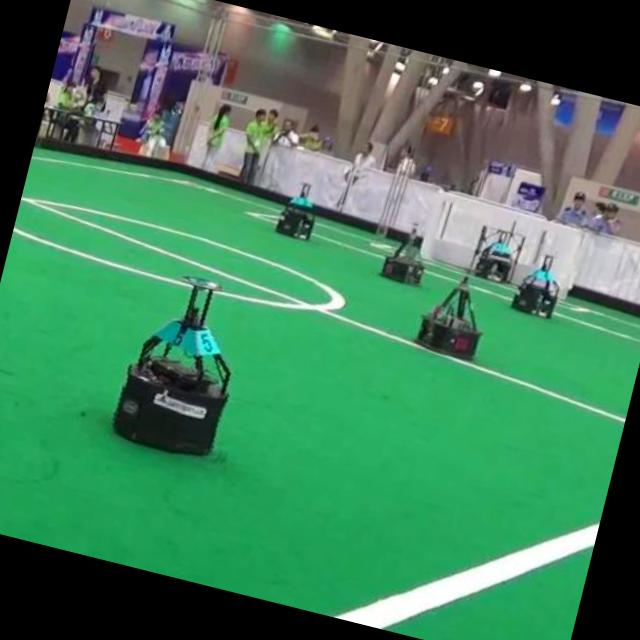goal: (558, 229, 583, 300), (421, 191, 447, 259)
robot: (113, 281, 229, 453), (416, 275, 479, 358), (472, 226, 526, 283), (511, 255, 558, 317), (381, 223, 423, 283), (275, 182, 315, 238)
